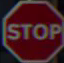Stop: (1, 2, 60, 57)
